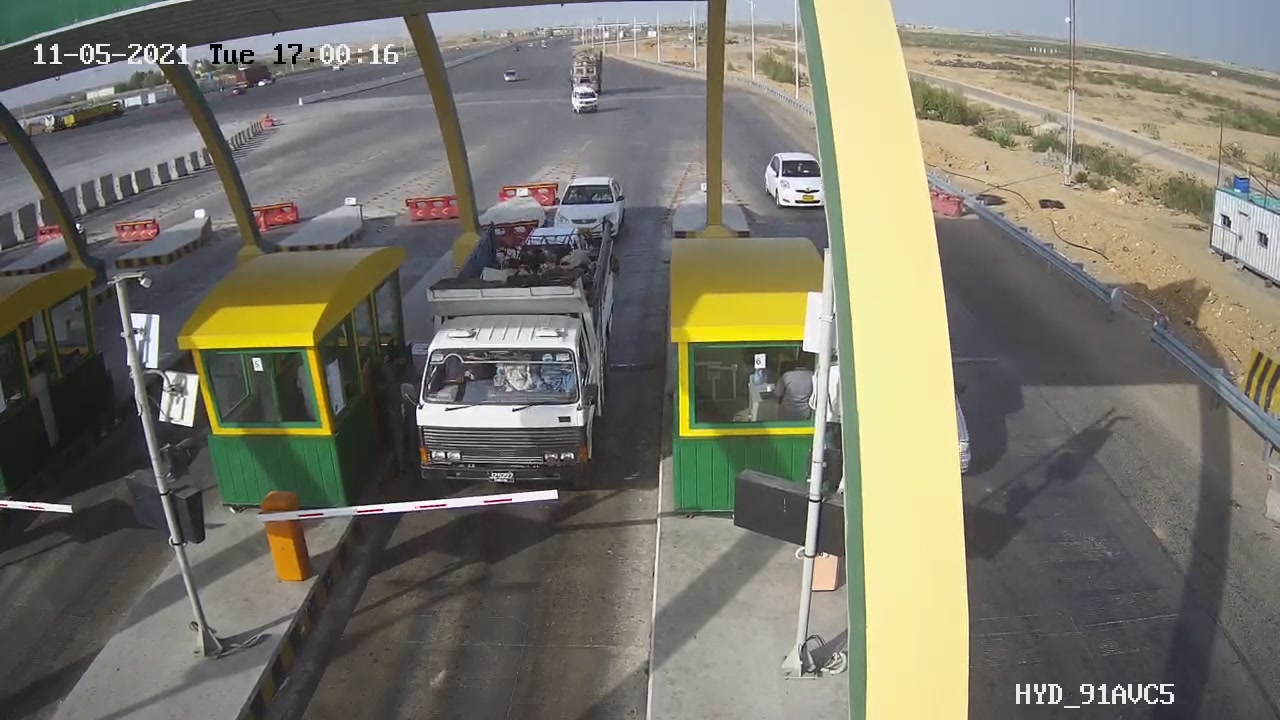F3: (381, 211, 639, 507)
